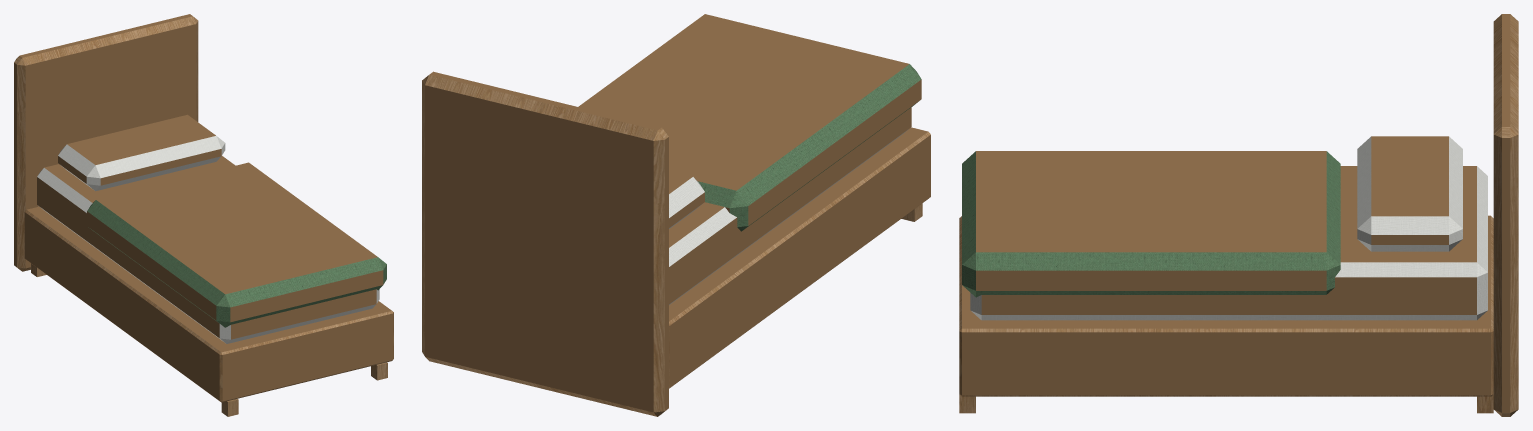
Rendered from bed_single_starter.glb.
The picture shows the model from 3 angles, left to right: view 1: azimuth 30°, elevation 25°; view 2: azimuth 150°, elevation 25°; view 3: azimuth 270°, elevation 25°; orthographic projection. The views are drawn at different scales.
Parts seen in each view (by area): view 1: bed_single; view 2: bed_single; view 3: bed_single.
Part boxes in pixels (x1,y1,x2,y2): bed_single: (14, 14, 393, 416); bed_single: (422, 14, 930, 416); bed_single: (959, 14, 1518, 416).
Size of the model in its own units: 1.02 by 1.15 by 2.01.
Materials: 3 (3 with a texture image).
